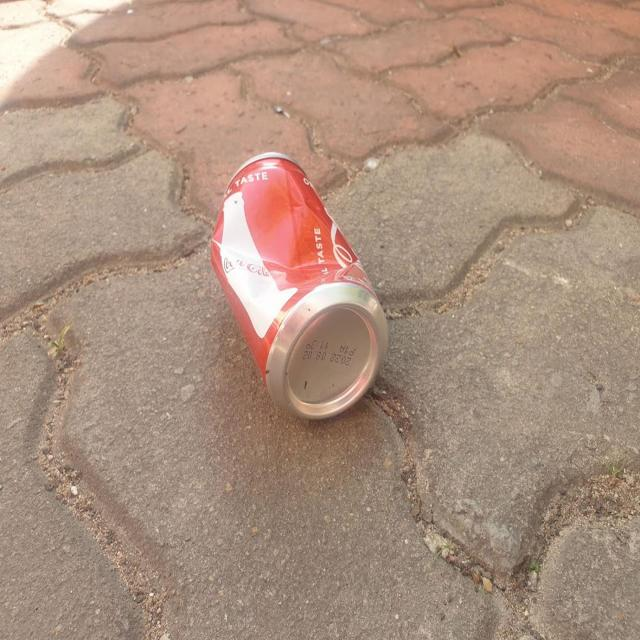can: (211, 152, 388, 419)
